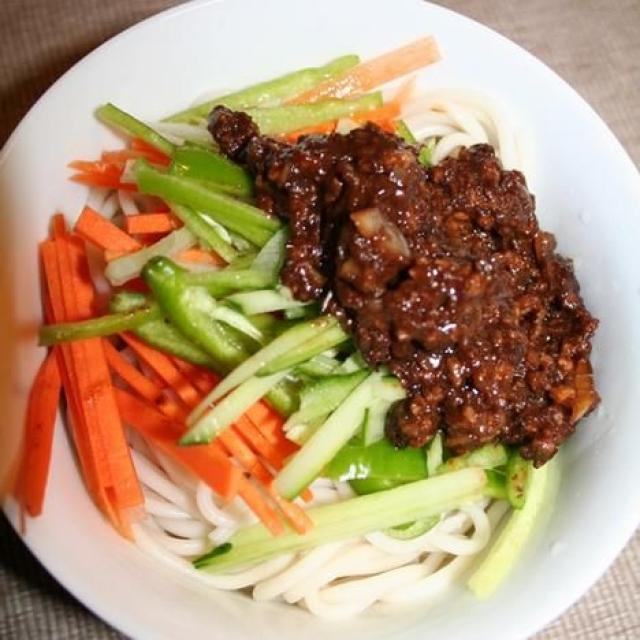面条主食: (23, 34, 620, 629)
